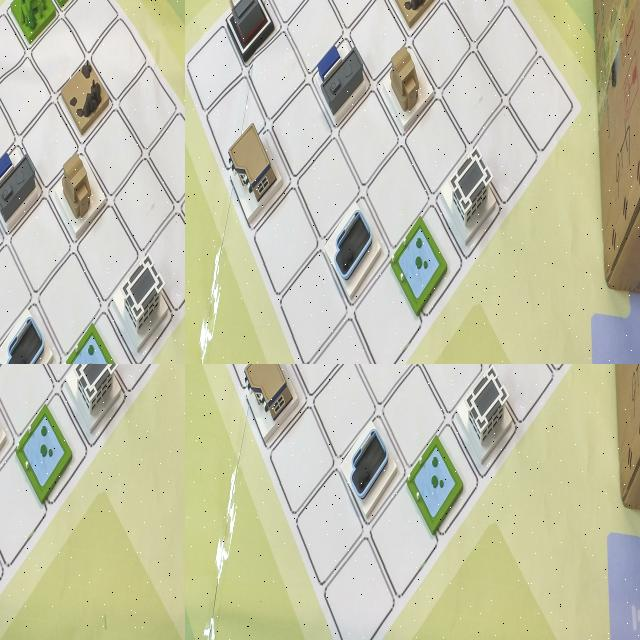bus_stop: (47, 364, 127, 430), (0, 111, 47, 208), (337, 0, 413, 54), (320, 364, 387, 416)
factory: (392, 117, 479, 252), (0, 183, 39, 311), (123, 364, 185, 427), (229, 364, 297, 409)
fish_pool: (405, 428, 464, 540), (0, 178, 38, 293), (147, 364, 185, 462), (497, 0, 567, 45)
forest: (296, 92, 382, 230), (346, 364, 401, 408), (0, 364, 32, 417)
gogo_shop: (329, 0, 403, 107), (38, 120, 110, 224), (335, 414, 398, 526), (38, 364, 117, 415)
research_build: (411, 0, 484, 120), (455, 364, 523, 473), (167, 60, 185, 174), (0, 364, 31, 418)
restaurant: (496, 13, 576, 137), (1, 33, 64, 138), (236, 364, 300, 452), (0, 364, 46, 434)
silicate_rock: (330, 186, 418, 336), (70, 16, 132, 109), (397, 364, 460, 405), (0, 364, 36, 415)
volunteer_center: (257, 234, 350, 364), (102, 105, 168, 234), (27, 364, 89, 428), (388, 364, 453, 423)
wet_land: (212, 78, 294, 198), (84, 211, 156, 337), (96, 364, 159, 410), (381, 364, 437, 403)
